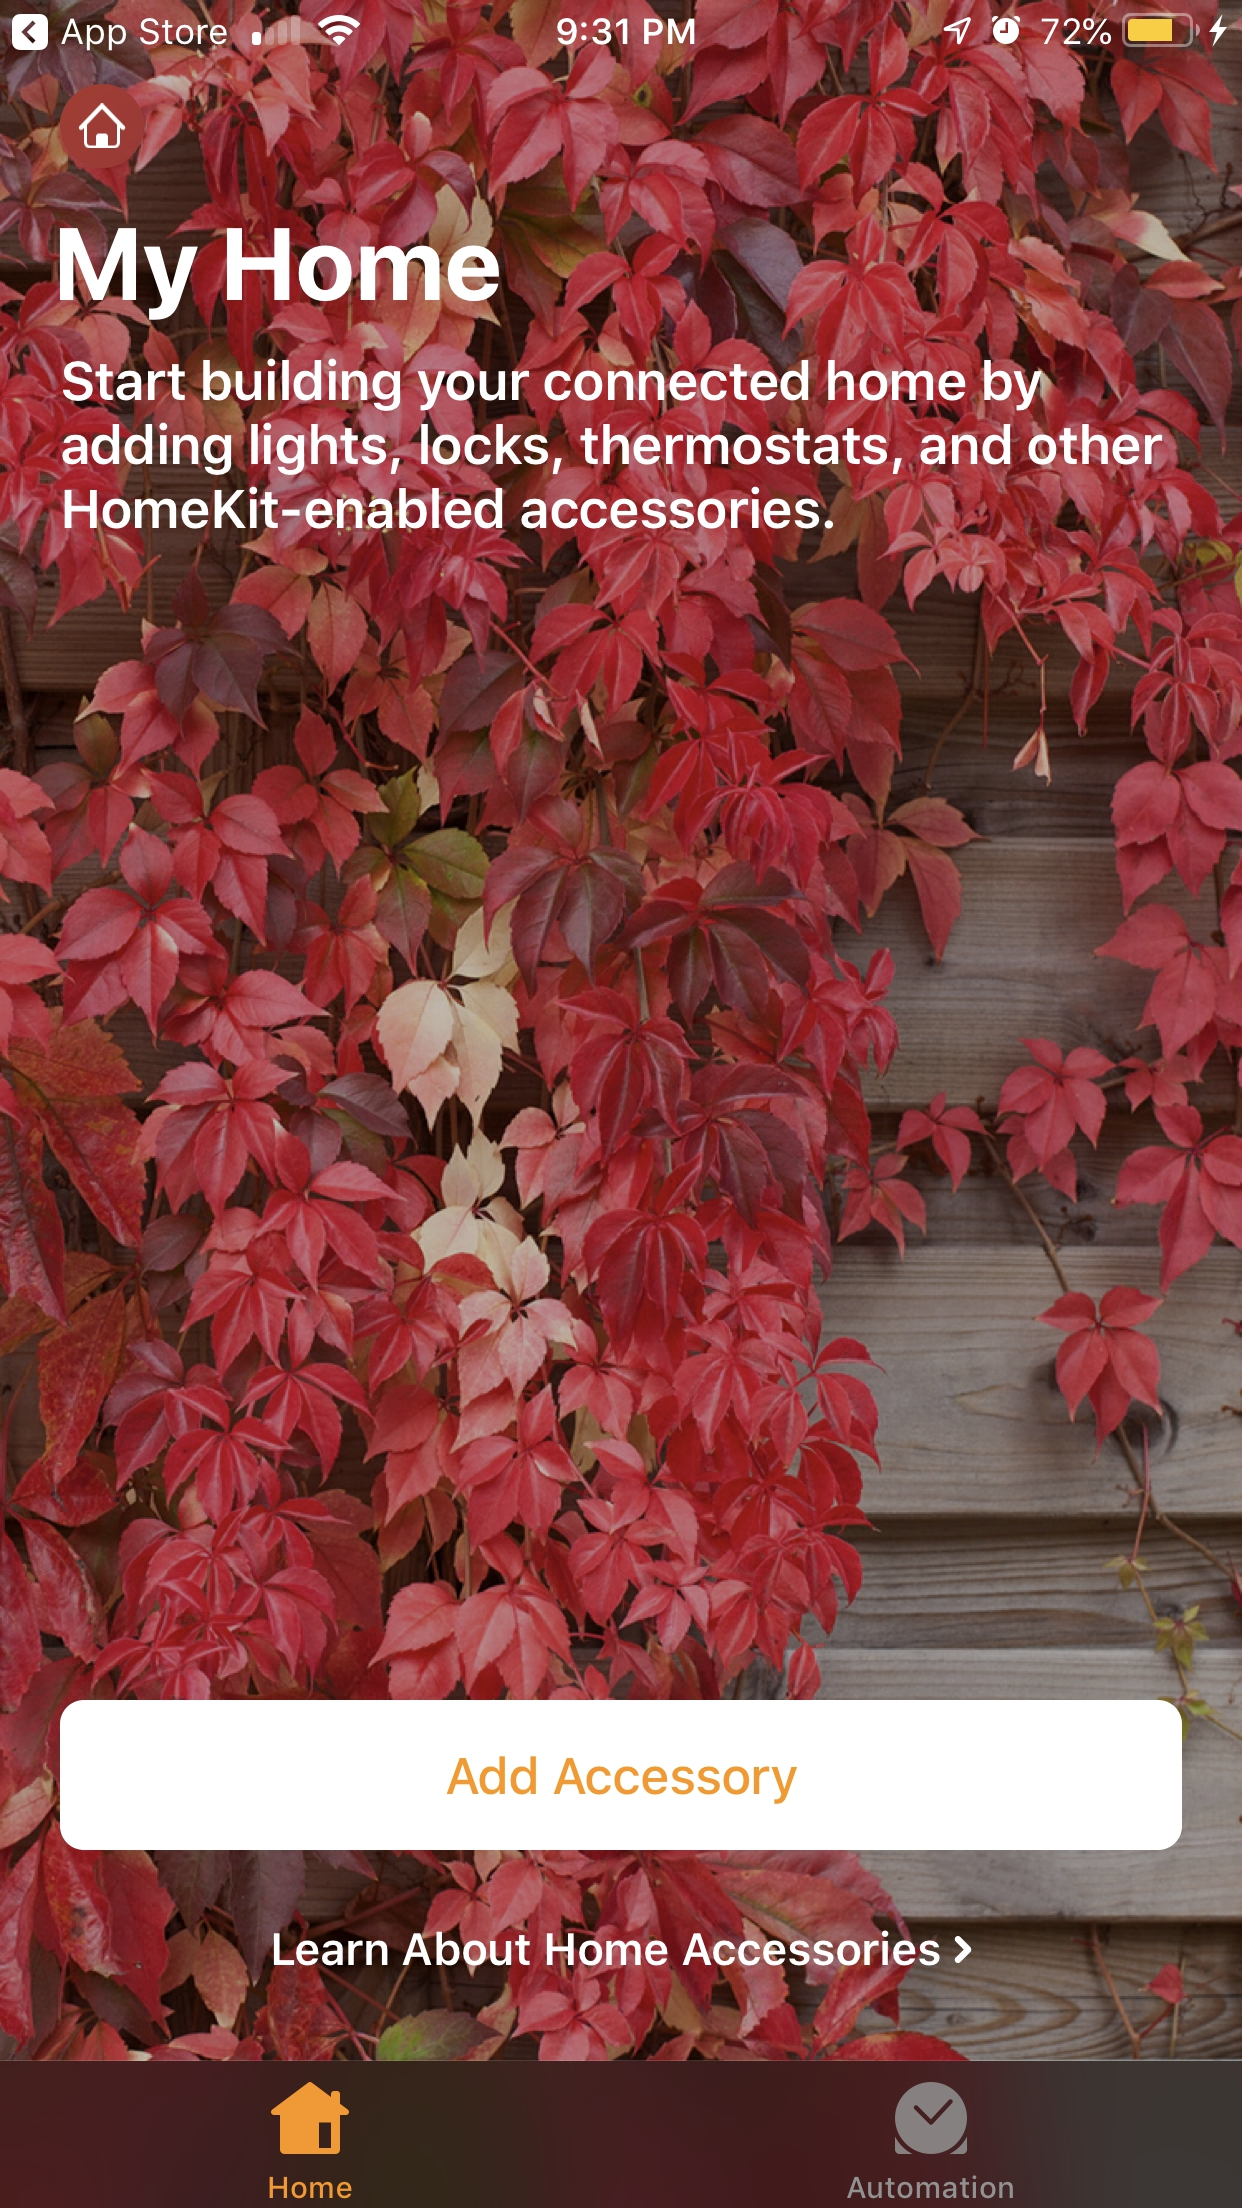BackgroundImage: (2, 53, 1242, 2061)
Icon: (61, 86, 146, 168), (271, 2081, 350, 2155), (893, 2081, 968, 2155), (954, 1935, 974, 1964)
Text: (62, 358, 1163, 531), (61, 227, 500, 321), (273, 1929, 942, 1967), (846, 2175, 1015, 2200), (268, 2175, 353, 2200)
TextButton: (61, 1698, 1183, 1852)
UpperTaskBar: (2, 2, 1242, 53)
